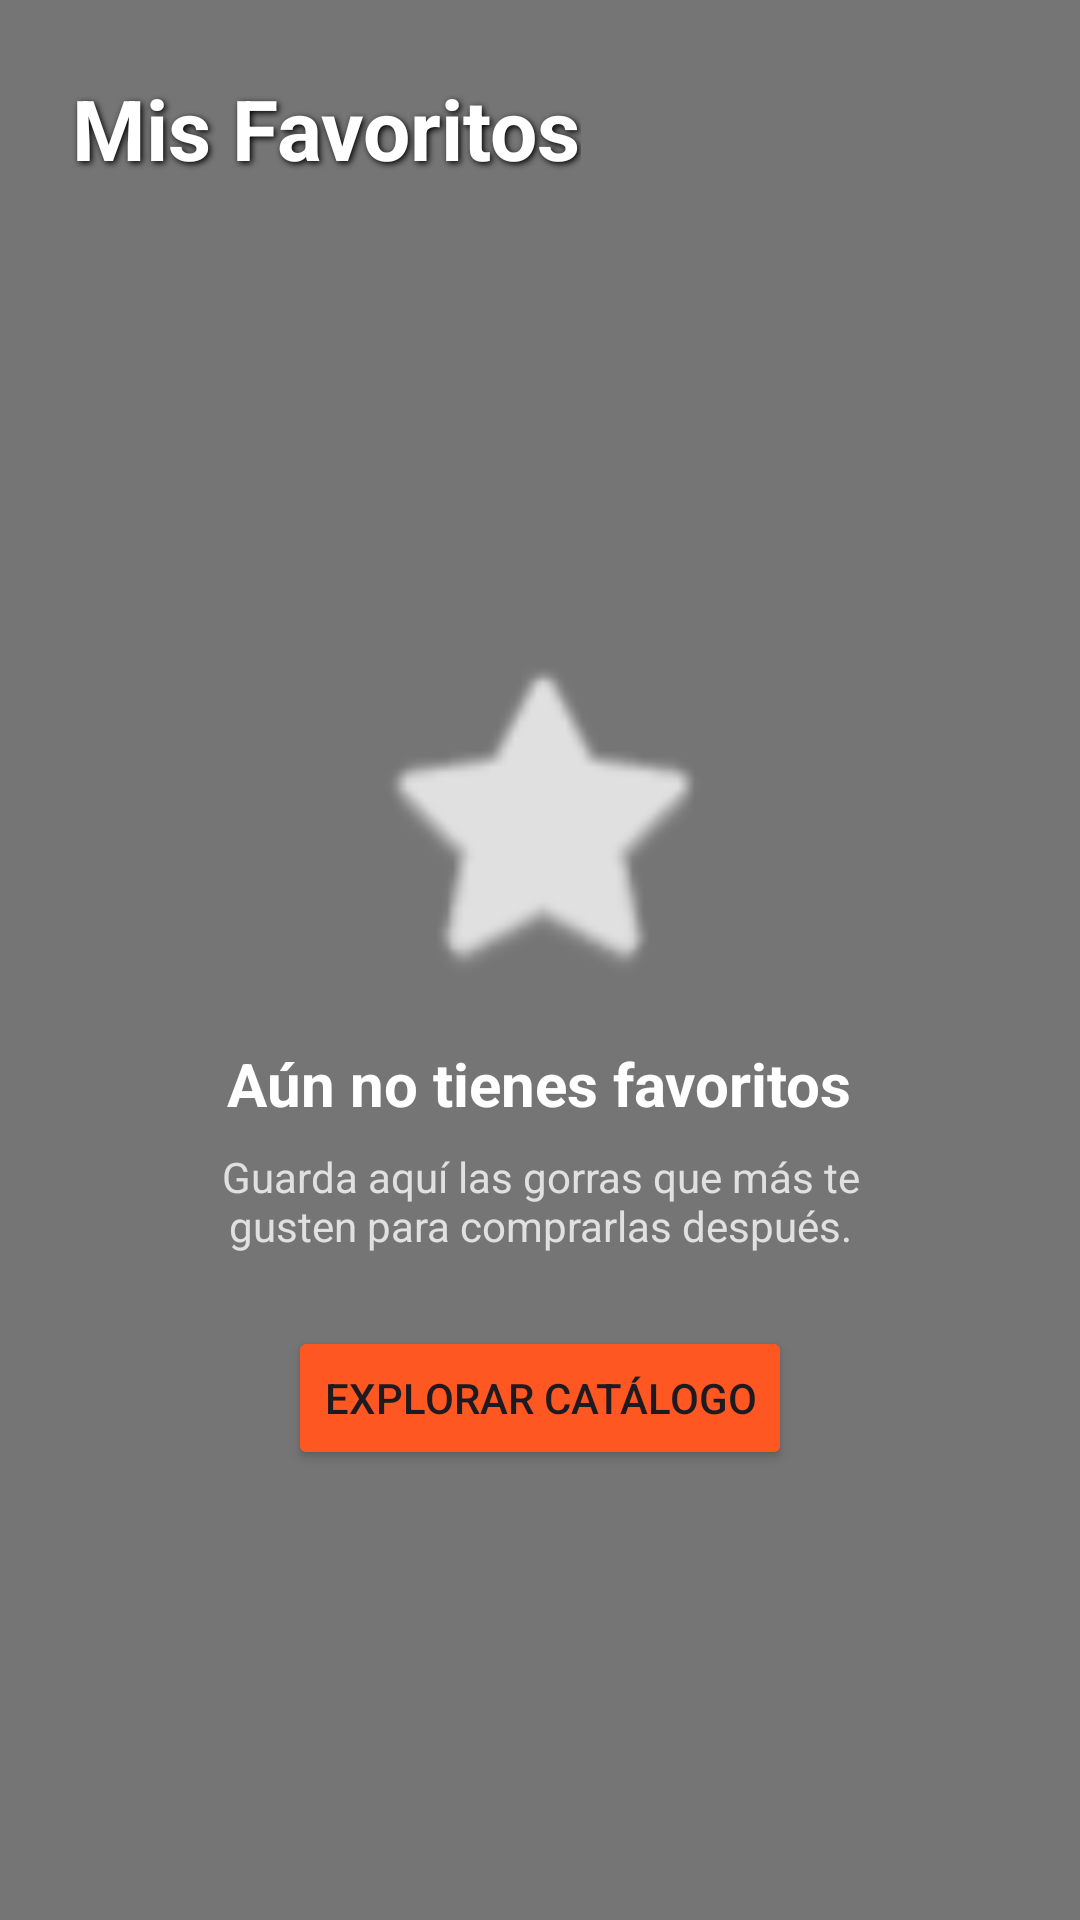

Icon bounding boxes for this 1080px×1920px phone screenshot, format [x1,y1,x2,y2]:
star on: [395,674,691,960]
